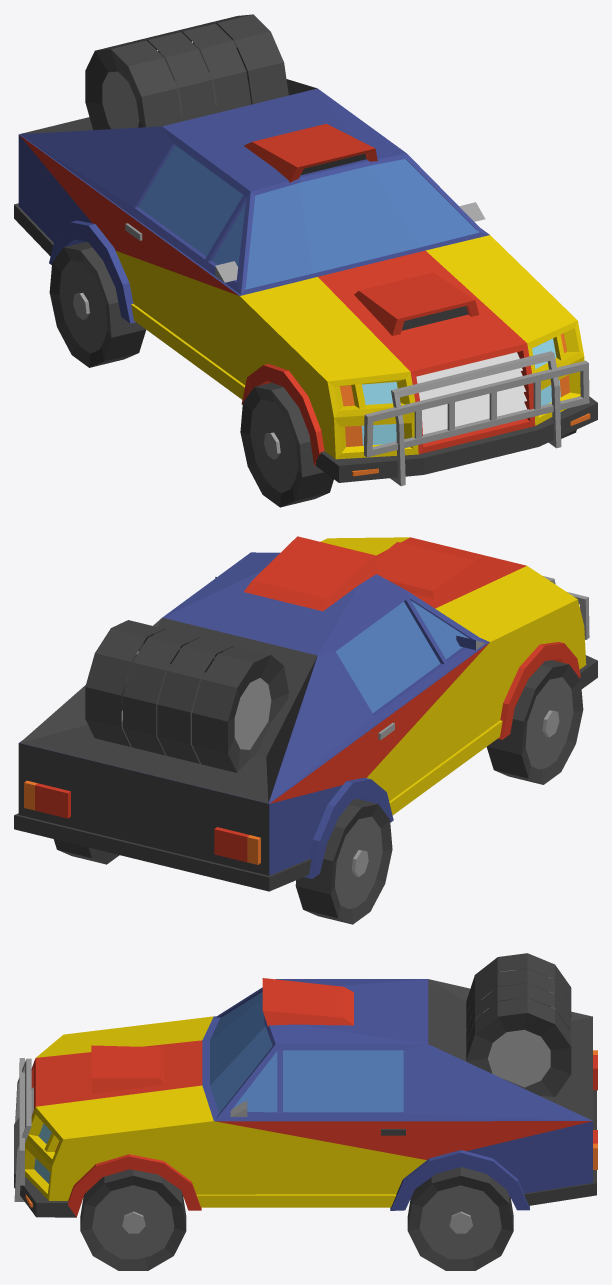
The model's file is Jeep_1.fbx.
3 views of the same model, one above another, from view 1: azimuth 30°, elevation 25°; view 2: azimuth 150°, elevation 25°; view 3: azimuth 270°, elevation 25° (orthographic). The views are drawn at different scales.
Visible parts, largest first — view 1: Jeep_1; view 2: Jeep_1; view 3: Jeep_1.
Part boxes in pixels (x1,y1,x2,y2): Jeep_1: [14, 14, 597, 507]; Jeep_1: [14, 536, 597, 924]; Jeep_1: [14, 953, 597, 1270].
Size of the model in its own units: 0.8802 by 0.7958 by 1.84.
